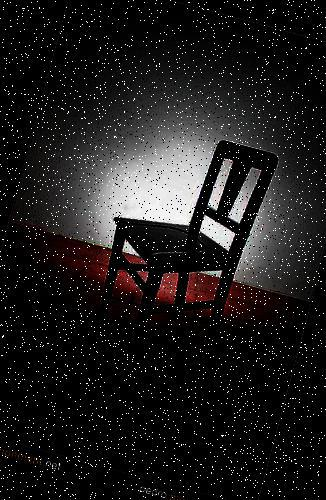Silla: (79, 117, 282, 392)
